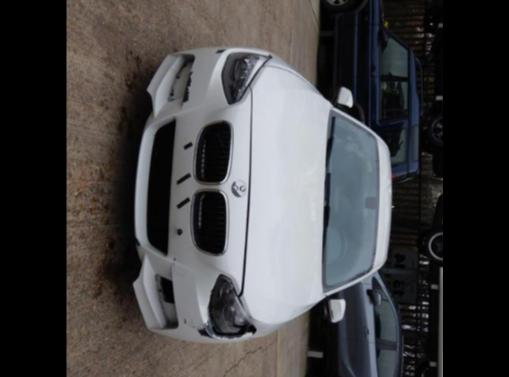Broken part: (236, 91, 253, 300), (208, 274, 256, 340)
Missing part: (167, 54, 196, 102), (154, 274, 179, 329)
Paint chip: (194, 303, 217, 339), (181, 69, 195, 106), (174, 196, 191, 210), (176, 171, 192, 185), (134, 234, 142, 250), (183, 140, 193, 151), (174, 227, 184, 236), (213, 49, 227, 53), (167, 88, 174, 96), (181, 60, 188, 67), (182, 316, 187, 324), (172, 256, 178, 261), (174, 75, 180, 80), (190, 325, 198, 328), (169, 97, 175, 101), (171, 262, 176, 265)
